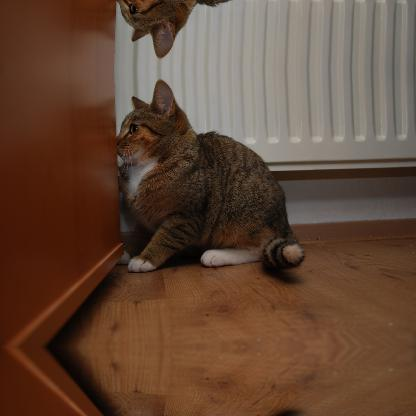Cat: (116, 78, 306, 272), (116, 0, 306, 58)
